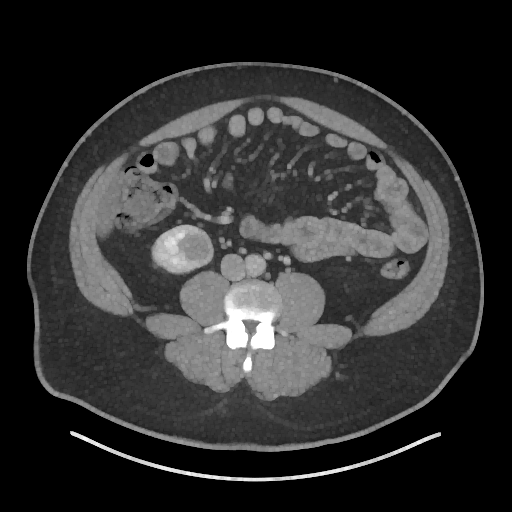Lesion: (176, 228, 212, 264)
